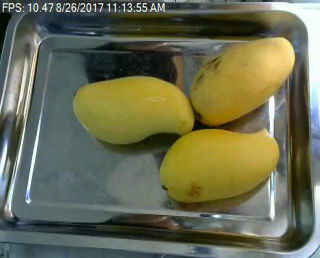Mango: (157, 124, 284, 204), (188, 35, 295, 125), (67, 72, 194, 144)
